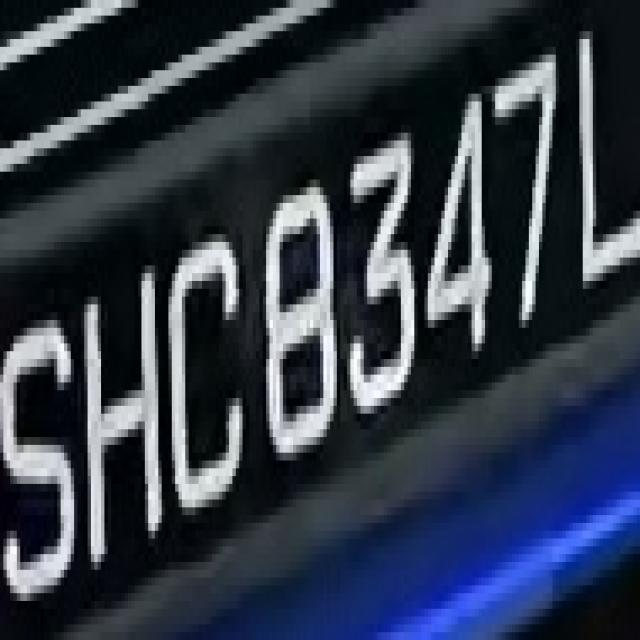3: (337, 109, 418, 414)
4: (418, 78, 502, 382)
7: (492, 39, 569, 336)
8: (253, 164, 350, 507)
C: (165, 218, 253, 570)
H: (77, 266, 172, 594)
L: (562, 0, 636, 304)
S: (3, 289, 78, 632)
